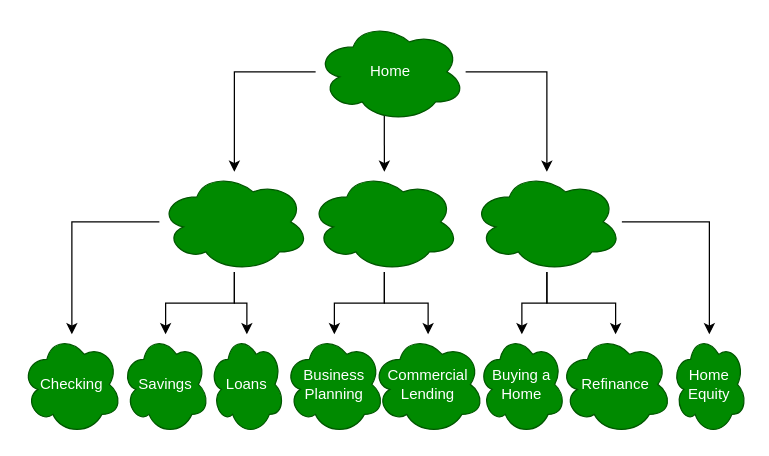
Some shapes in this 769 by 456 pixel diagram are drawn without their labels. The centre of each missing label's shape, as x and y in pixels:
"Business" belongs at (x=383, y=221).
"Mortgage" belongs at (x=546, y=221).
"Personal" belongs at (x=233, y=221).
